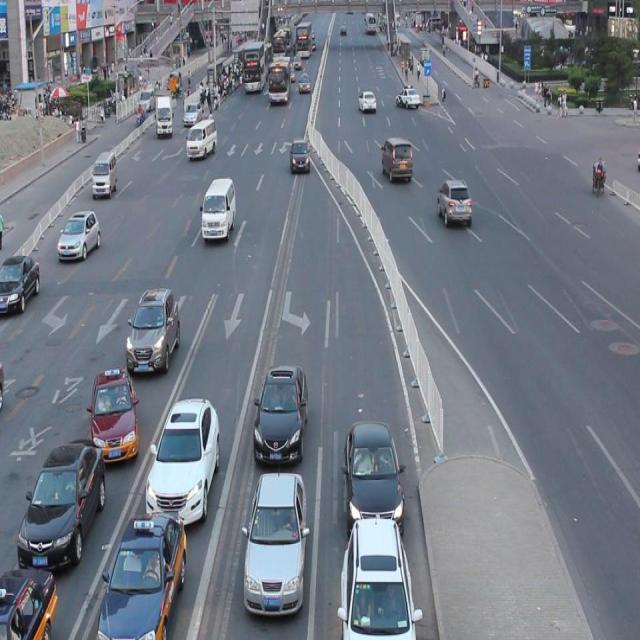car: (95, 505, 187, 640), (17, 434, 106, 571), (339, 511, 418, 640), (241, 464, 308, 615), (144, 393, 220, 524), (342, 412, 402, 528), (252, 359, 308, 464), (124, 282, 180, 375), (89, 363, 140, 464), (1, 564, 58, 640), (1, 255, 41, 317), (57, 208, 101, 260), (436, 176, 471, 228), (381, 138, 412, 182), (289, 136, 311, 174)
truck: (201, 177, 236, 239), (92, 150, 118, 201)
